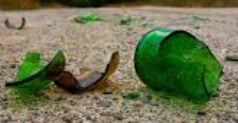glass: (133, 25, 226, 104), (49, 48, 123, 94), (5, 49, 67, 88)
